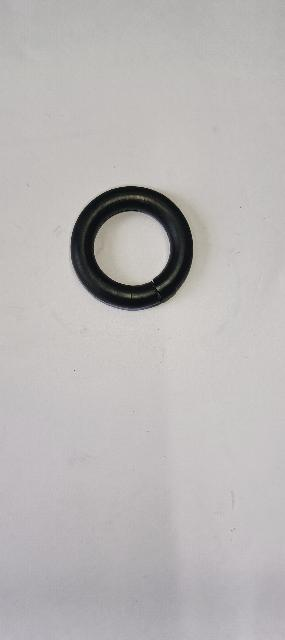4: (127, 284, 135, 304)
crack: (148, 272, 171, 307)
